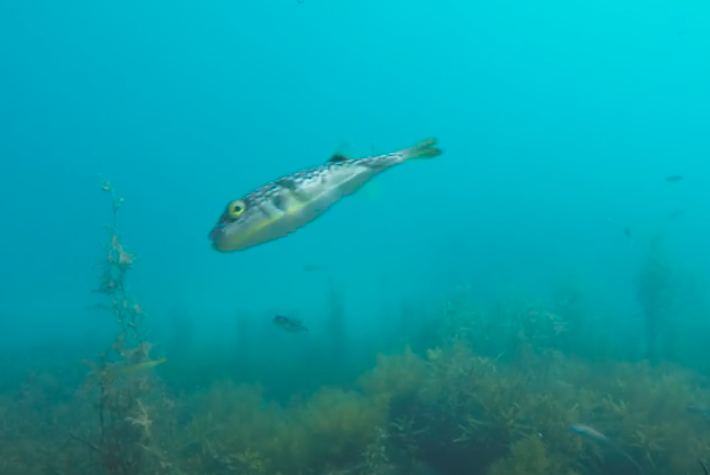hugu: (187, 116, 453, 267)
